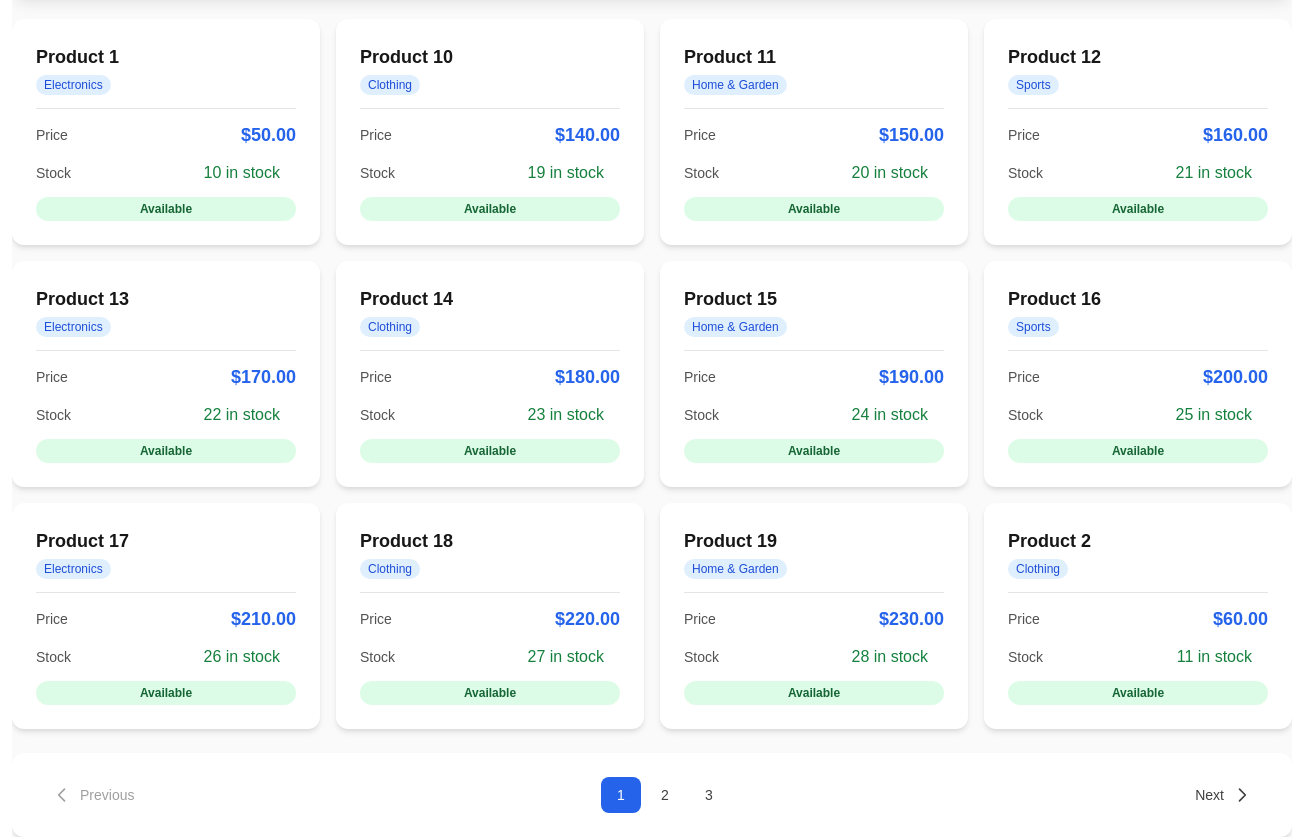
Test case: ProductList Page › Pagination › should navigate to previous page when previous button is clicked
The image size is (1304, 837).
(page scrolled)
Click the button "Next" at (1224, 795), box [1179, 777, 1268, 813]
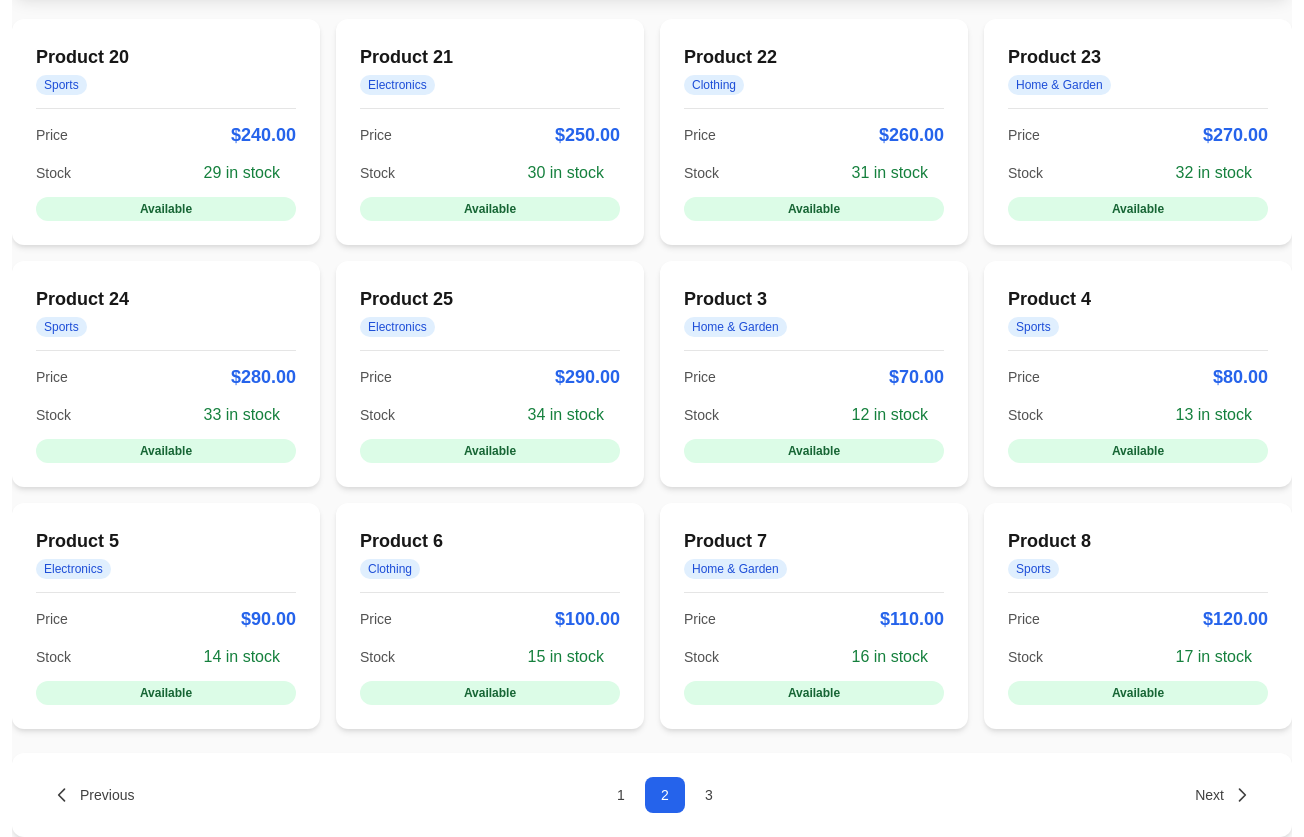
Click the button "Previous" at (93, 795), box [36, 777, 150, 813]
(page scrolled)
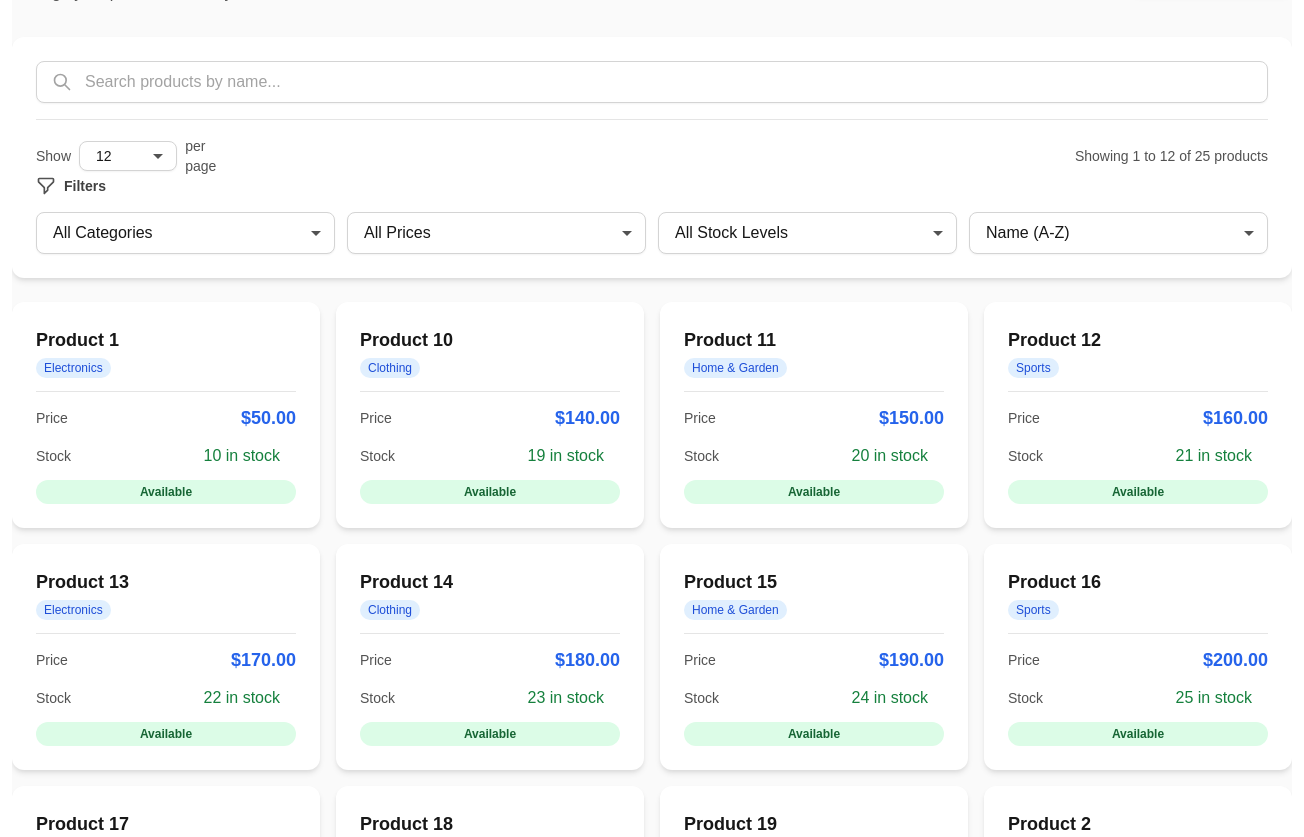
Now the text "Showing 1 to 12 of 25 products" is shown, box [1075, 146, 1268, 166]
